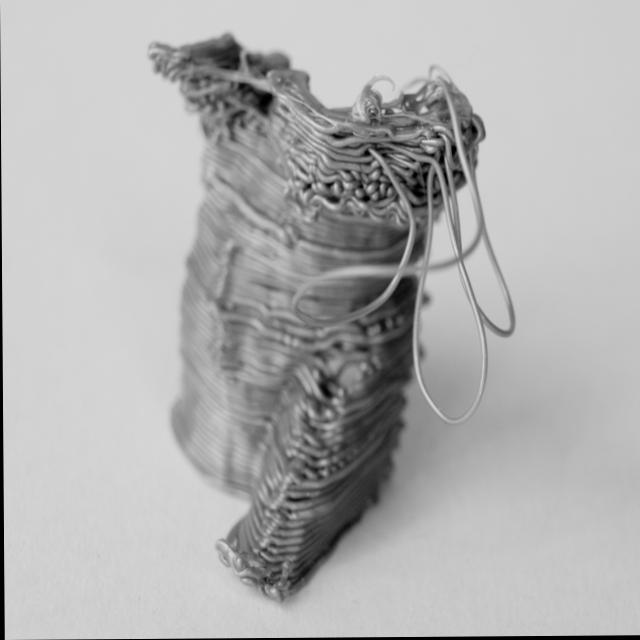spaghetti: (145, 1, 514, 614)
